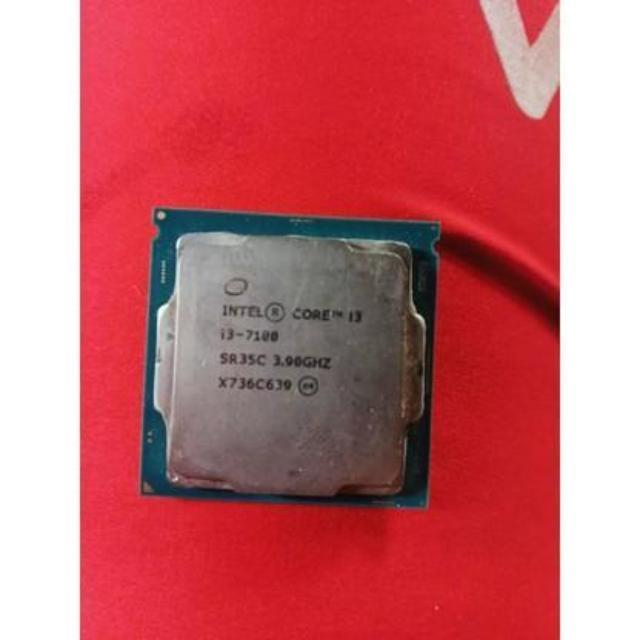CPU: (152, 212, 426, 510)
